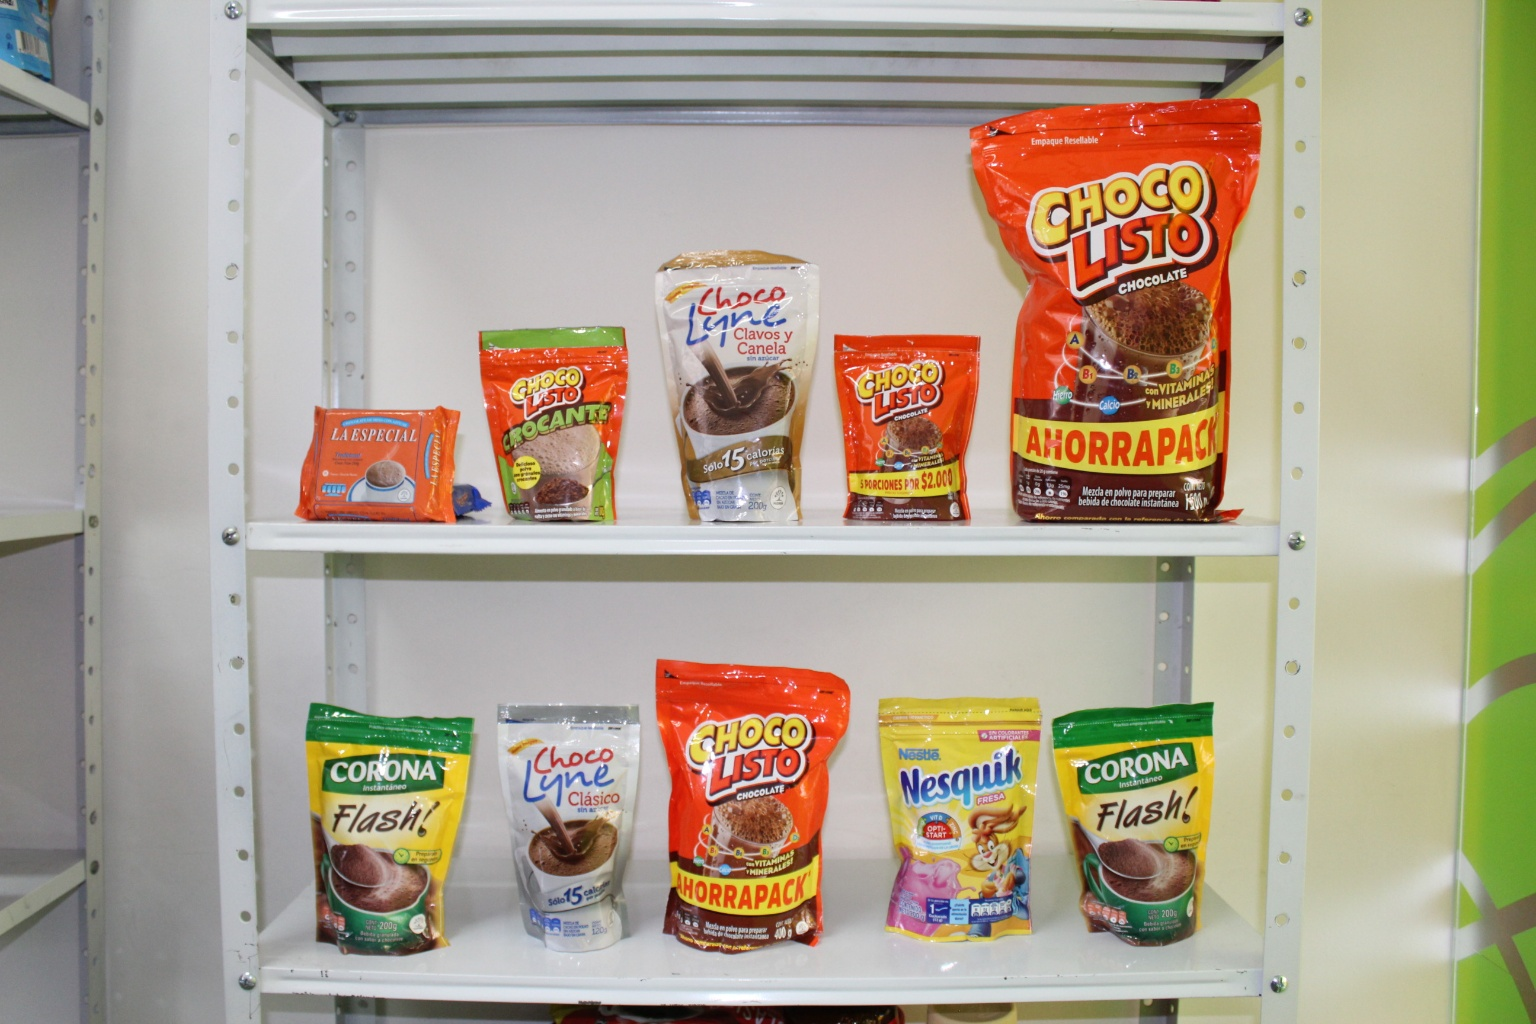COL0170102DYP10000: (482, 325, 647, 528)
COL0170103DYP1,500: (971, 75, 1267, 535)
COL0170103DYP10000: (827, 329, 986, 525)
COL0170103DYP40000: (649, 645, 856, 951)
COL0170305DYP20000: (862, 690, 1053, 943)
